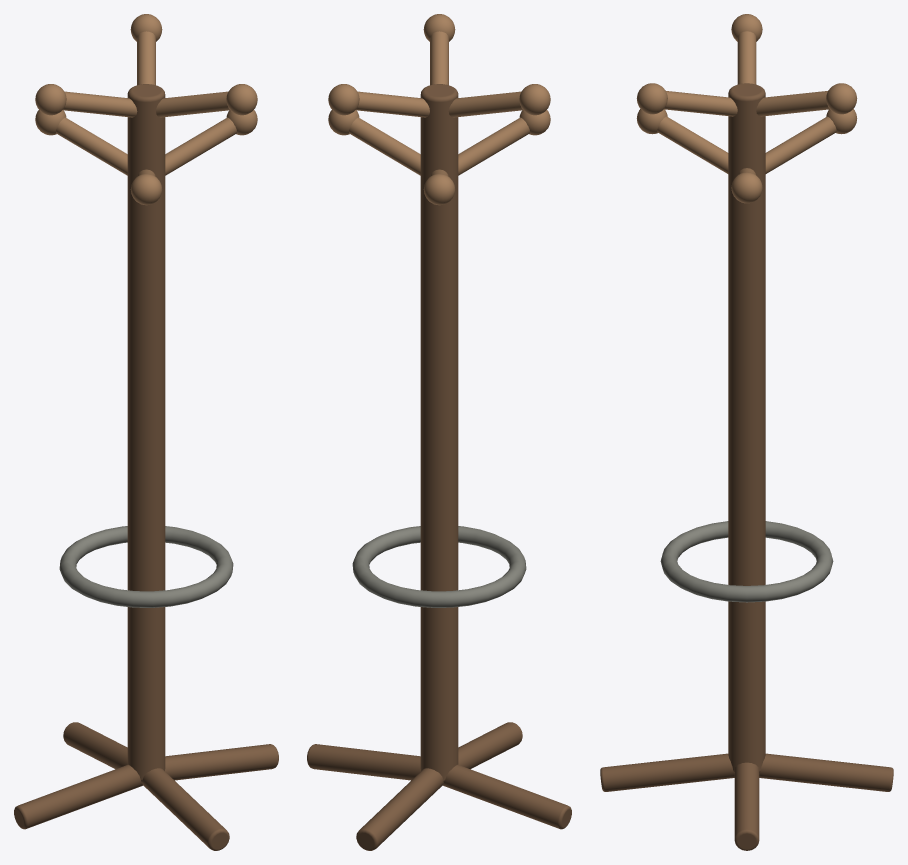
The model's file is coathanger.glb.
3 views of the same model, side by side, from view 1: azimuth 30°, elevation 25°; view 2: azimuth 150°, elevation 25°; view 3: azimuth 270°, elevation 25° (orthographic).
Parts seen in each view (by area): view 1: Coat Stand Pole, Umbrella Ring, Coat Stand Foot.002, Coat Stand Foot, Coat Stand Foot.003, Coat Stand Foot.001, Coat Hook, Coat Hook.001, Coat Hook.004, Coat Hook.005, Coat Hook.003, Coat Hook Cap.002 (+5 smaller); view 2: Coat Stand Pole, Umbrella Ring, Coat Stand Foot.002, Coat Stand Foot, Coat Stand Foot.001, Coat Stand Foot.003, Coat Hook, Coat Hook.002, Coat Hook.003, Coat Hook.004, Coat Hook.005, Coat Hook Cap.001 (+5 smaller); view 3: Coat Stand Pole, Umbrella Ring, Coat Stand Foot.001, Coat Stand Foot.003, Coat Stand Foot, Coat Hook.001, Coat Hook.002, Coat Hook.003, Coat Hook.005, Coat Hook.004, Coat Hook Cap, Coat Hook Cap.003 (+2 smaller).
Boxes of the visible parts, box(x1,y1,x2,y2) form: Coat Stand Pole: box(127, 84, 165, 781); Umbrella Ring: box(59, 526, 233, 607); Coat Stand Foot.002: box(14, 764, 142, 829); Coat Stand Foot: box(165, 744, 278, 780); Coat Stand Foot.003: box(142, 768, 229, 850); Coat Stand Foot.001: box(63, 722, 127, 769); Coat Hook: box(165, 117, 236, 175); Coat Hook.001: box(56, 117, 127, 175); Coat Hook.004: box(62, 91, 137, 117); Coat Hook.005: box(156, 91, 230, 117); Coat Hook.003: box(137, 31, 155, 85); Coat Hook Cap.002: box(130, 174, 162, 205); Coat Stand Pole: box(420, 84, 458, 781); Umbrella Ring: box(352, 526, 526, 607); Coat Stand Foot.002: box(443, 764, 571, 829); Coat Stand Foot: box(307, 744, 420, 780); Coat Stand Foot.001: box(356, 768, 443, 850); Coat Stand Foot.003: box(458, 722, 522, 769); Coat Hook: box(349, 117, 420, 175); Coat Hook.002: box(458, 117, 529, 175); Coat Hook.003: box(355, 91, 429, 117); Coat Hook.004: box(448, 91, 523, 117); Coat Hook.005: box(430, 31, 448, 85); Coat Hook Cap.001: box(423, 174, 455, 205); Coat Stand Pole: box(728, 83, 765, 772); Umbrella Ring: box(660, 521, 833, 602); Coat Stand Foot.001: box(759, 753, 893, 791); Coat Stand Foot.003: box(600, 753, 734, 791); Coat Stand Foot: box(734, 762, 759, 850); Coat Hook.001: box(765, 116, 836, 173); Coat Hook.002: box(657, 116, 728, 173); Coat Hook.003: box(756, 91, 829, 116); Coat Hook.005: box(664, 91, 737, 116); Coat Hook.004: box(737, 31, 756, 84); Coat Hook Cap: box(731, 172, 762, 203); Coat Hook Cap.003: box(826, 83, 857, 114).
Bounding box in the file's own units: 0.2822 × 0.7736 × 0.2822.
